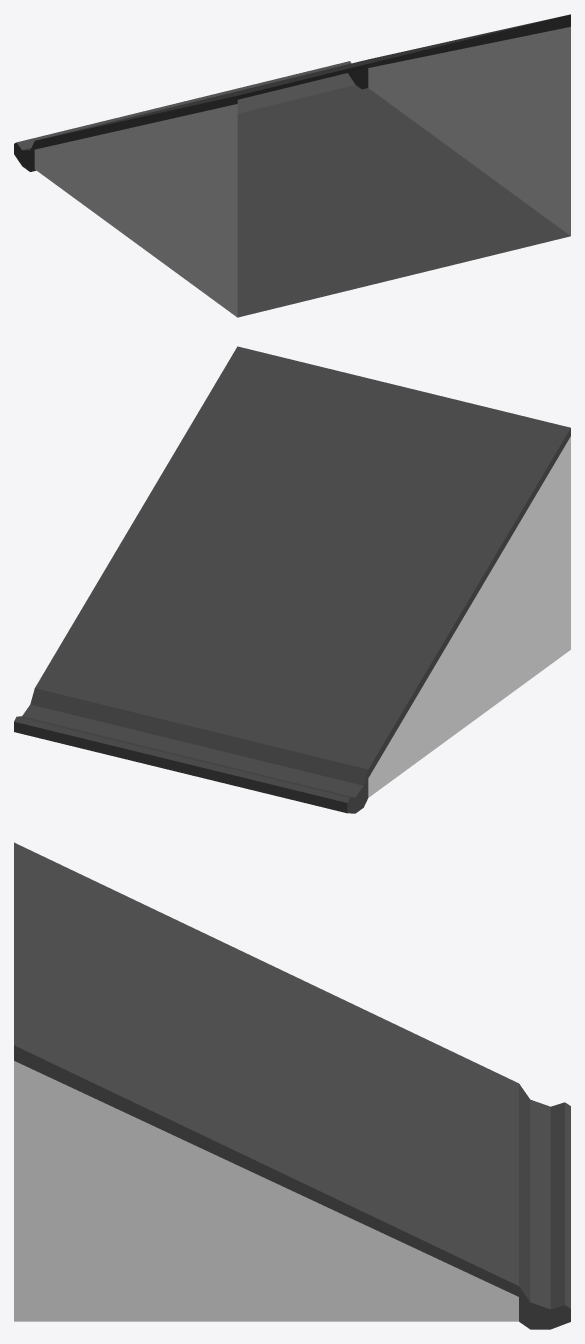
File: Larry_Map_Roof_01.fbx
3 renders of one model, top to bottom at view 1: azimuth 30°, elevation 25°; view 2: azimuth 150°, elevation 25°; view 3: azimuth 270°, elevation 25°, orthographic. The views are drawn at different scales.
Visible parts, largest first — view 1: Roof_01; view 2: Roof_01; view 3: Roof_01.
Boxes of the visible parts, x1,y1,x2,y2 form: Roof_01: [14, 14, 570, 317]; Roof_01: [14, 346, 570, 813]; Roof_01: [14, 842, 570, 1329].
Size of the model in its own units: 100 by 65.39 by 116.
